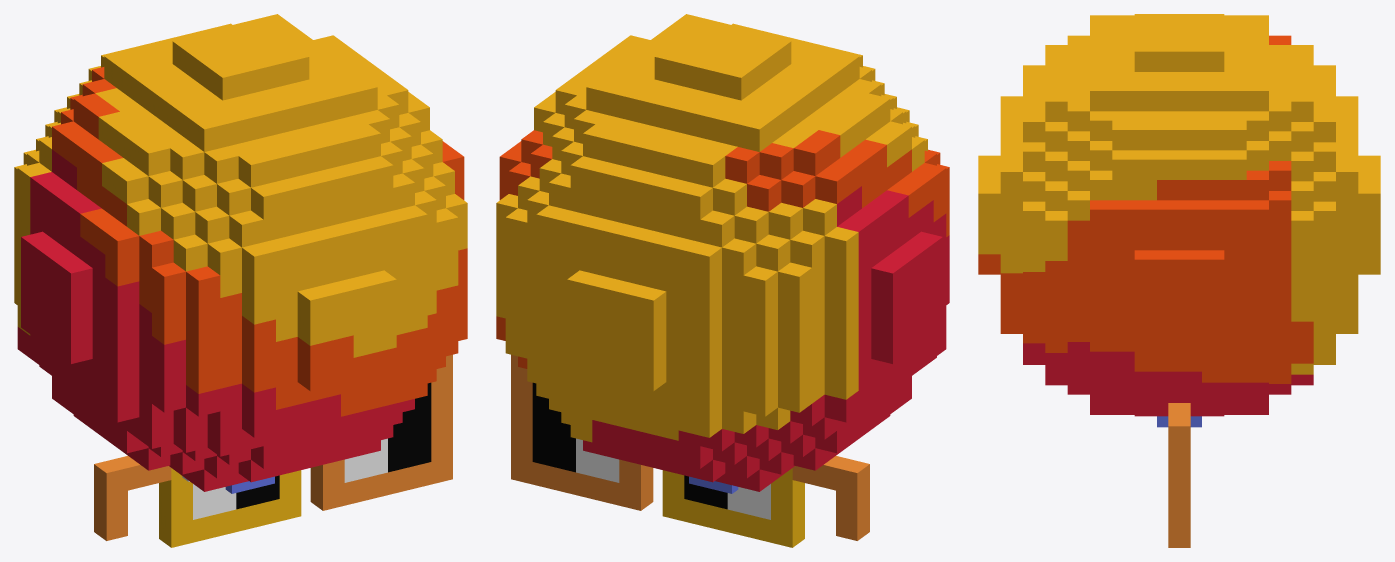
The model's file is saturn.glb.
3 renders of one model, left to right at view 1: azimuth 30°, elevation 25°; view 2: azimuth 150°, elevation 25°; view 3: azimuth 270°, elevation 25°, orthographic. The views are drawn at different scales.
Parts seen in each view (by area): view 1: base, monture, glass (1); view 2: base, monture, glass (1); view 3: base, monture.
Part boxes in pixels (box(x1,y1,x2,y2)): base: box(14, 14, 467, 493); monture: box(94, 354, 452, 547); glass (1): box(193, 382, 431, 519); base: box(496, 14, 949, 493); monture: box(511, 354, 869, 547); glass (1): box(532, 382, 770, 519); base: box(978, 14, 1380, 427); monture: box(1168, 403, 1190, 547).
Size of the model in its own units: 18.5 by 21 by 18.
Materials: 12 (12 with a texture image).
